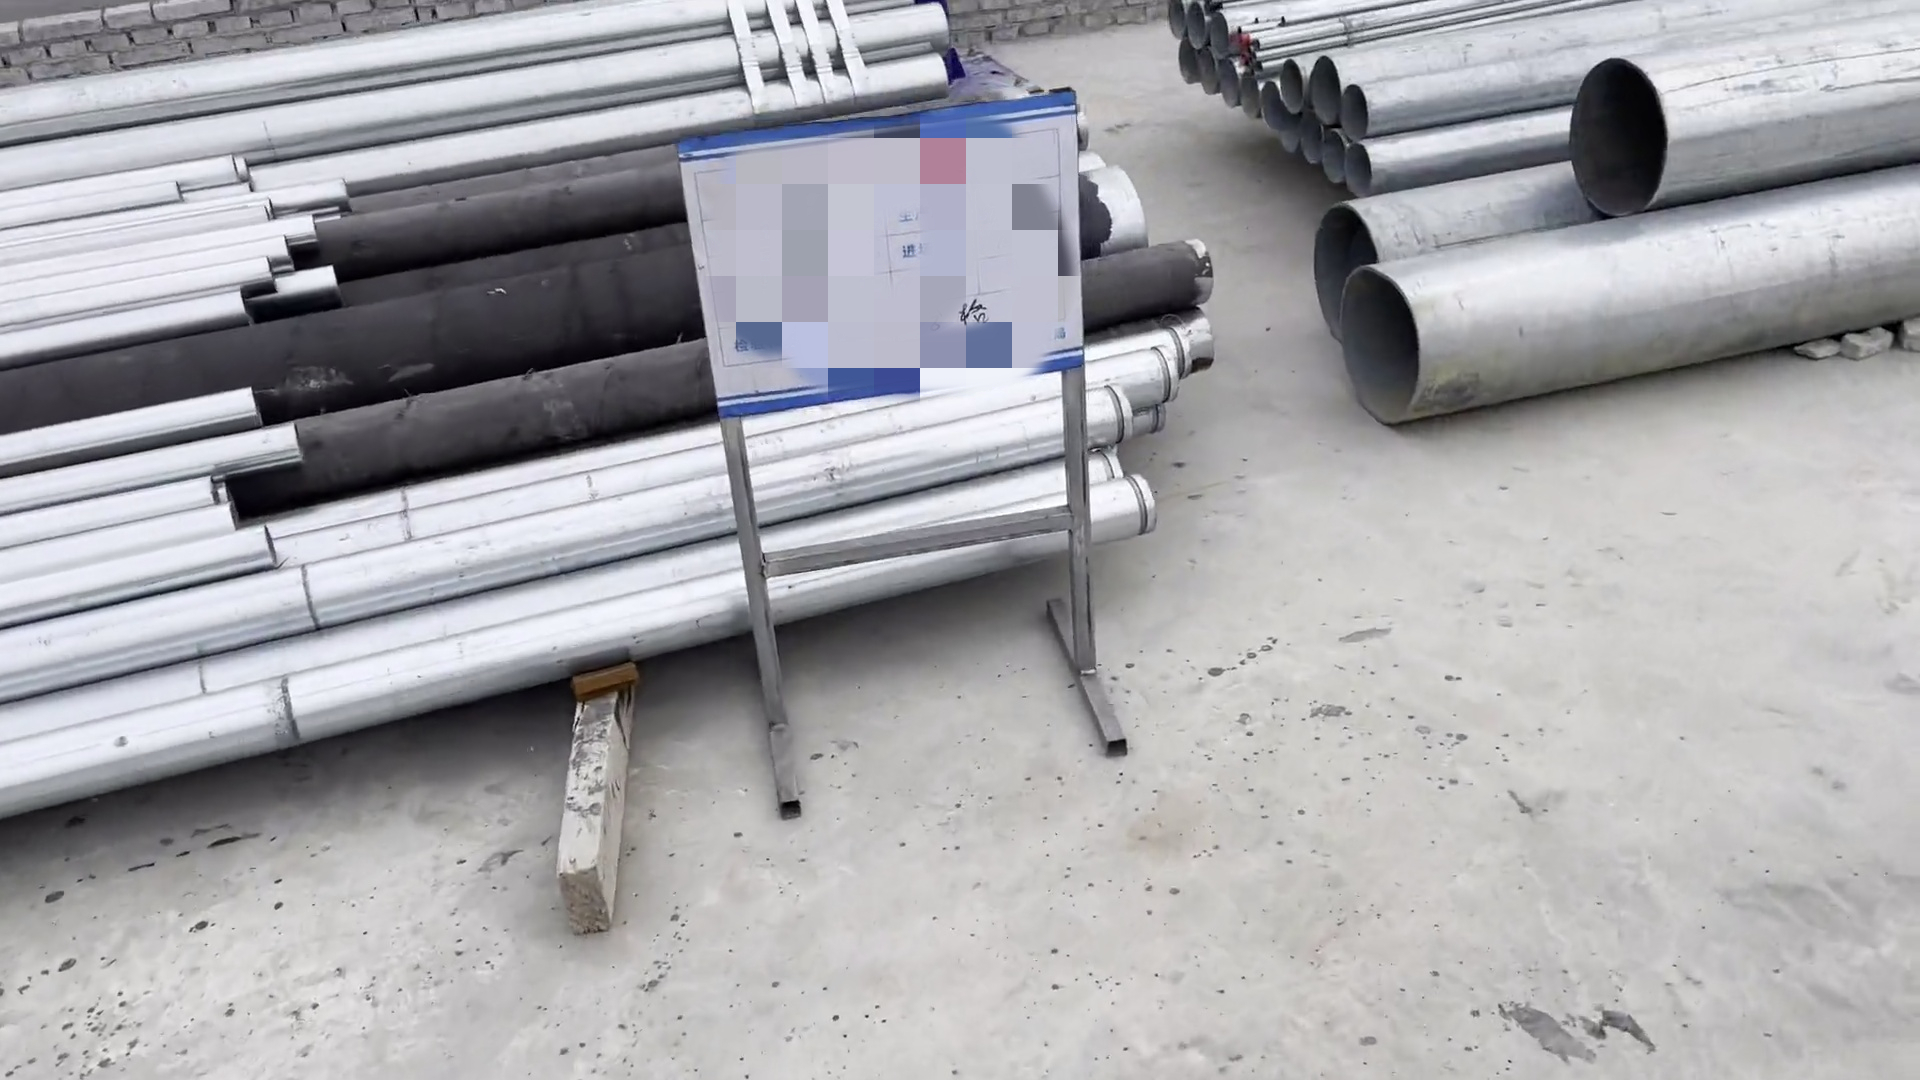brick: (3, 1, 521, 94), (949, 1, 1184, 50)
slogan: (613, 80, 1145, 427)
